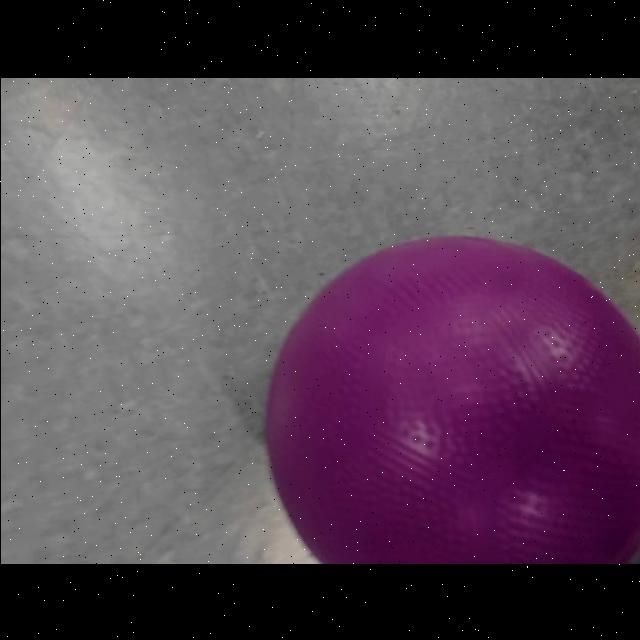P: (260, 232, 640, 564)
